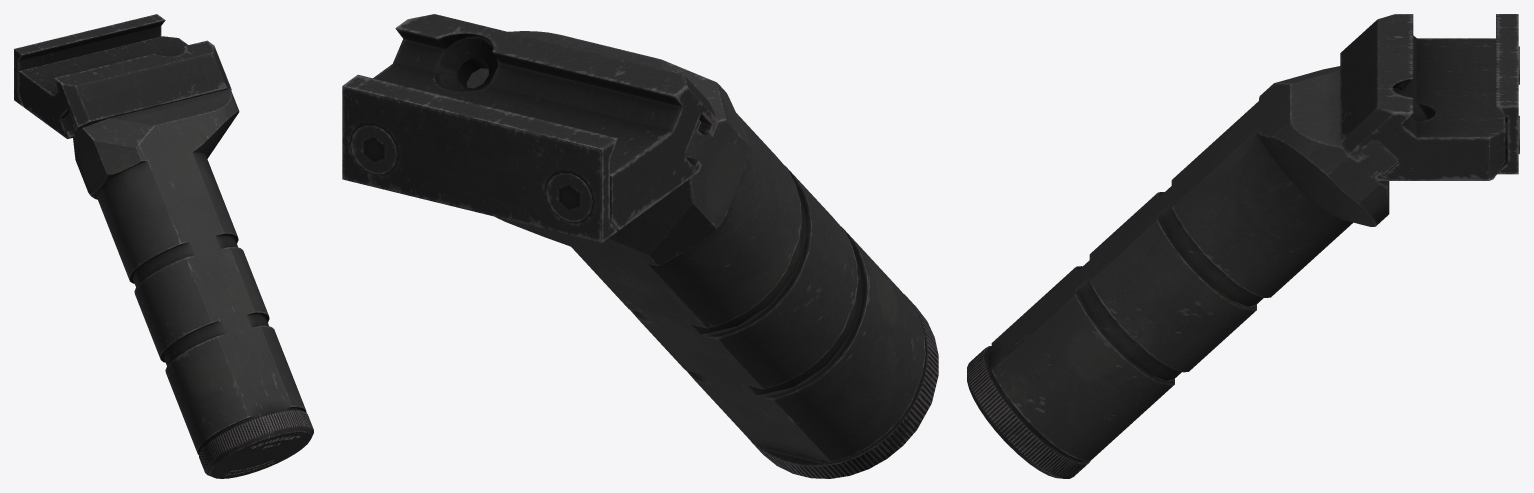
File: tactical_foregrips_2.glb
The picture shows the model from 3 angles, left to right: view 1: azimuth 30°, elevation 25°; view 2: azimuth 150°, elevation 25°; view 3: azimuth 270°, elevation 25°; orthographic projection. The views are drawn at different scales.
Parts seen in each view (by area): view 1: rk5_lp, b25_lp; view 2: rk5_lp, b25_lp, bolt_lp.002; view 3: rk5_lp, b25_lp.
Part boxes in pixels (bbox=[...]): rk5_lp: bbox=[65, 88, 313, 478]; b25_lp: bbox=[14, 14, 231, 138]; rk5_lp: bbox=[466, 31, 938, 478]; b25_lp: bbox=[342, 14, 718, 242]; bolt_lp.002: bbox=[351, 125, 592, 221]; rk5_lp: bbox=[967, 66, 1398, 478]; b25_lp: bbox=[1340, 14, 1518, 180].
Size of the model in its own units: 0.0456 by 0.0897 by 0.1075.
1 material, 1 textured.
